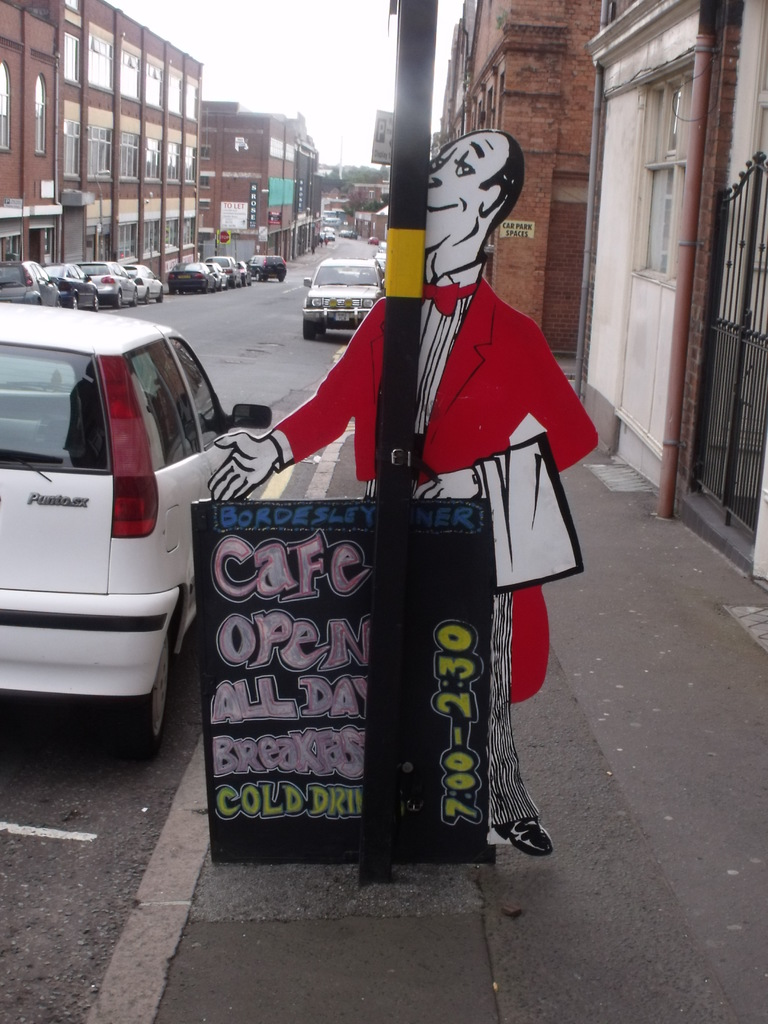cars: (0, 279, 225, 798), (0, 251, 287, 310), (299, 238, 383, 338), (338, 227, 355, 238), (324, 232, 336, 241), (368, 236, 380, 243), (320, 232, 321, 239)
